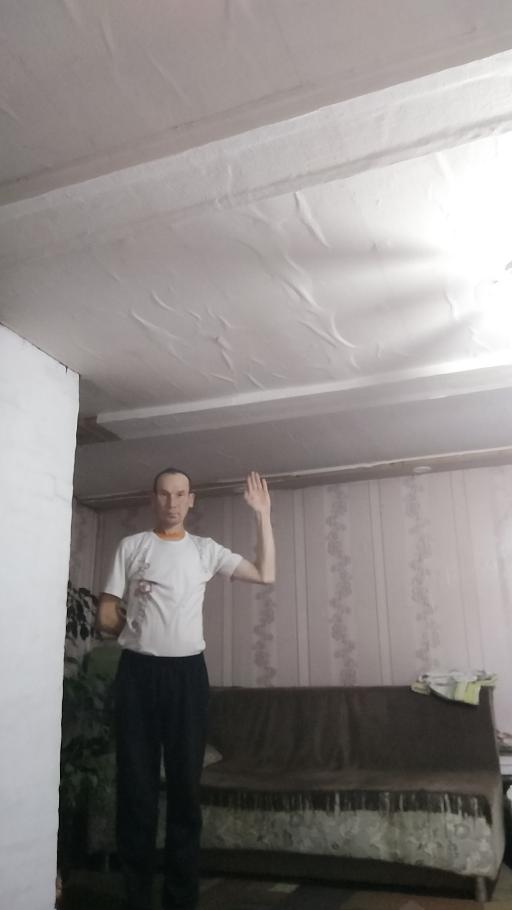stop: (240, 469, 272, 515)
